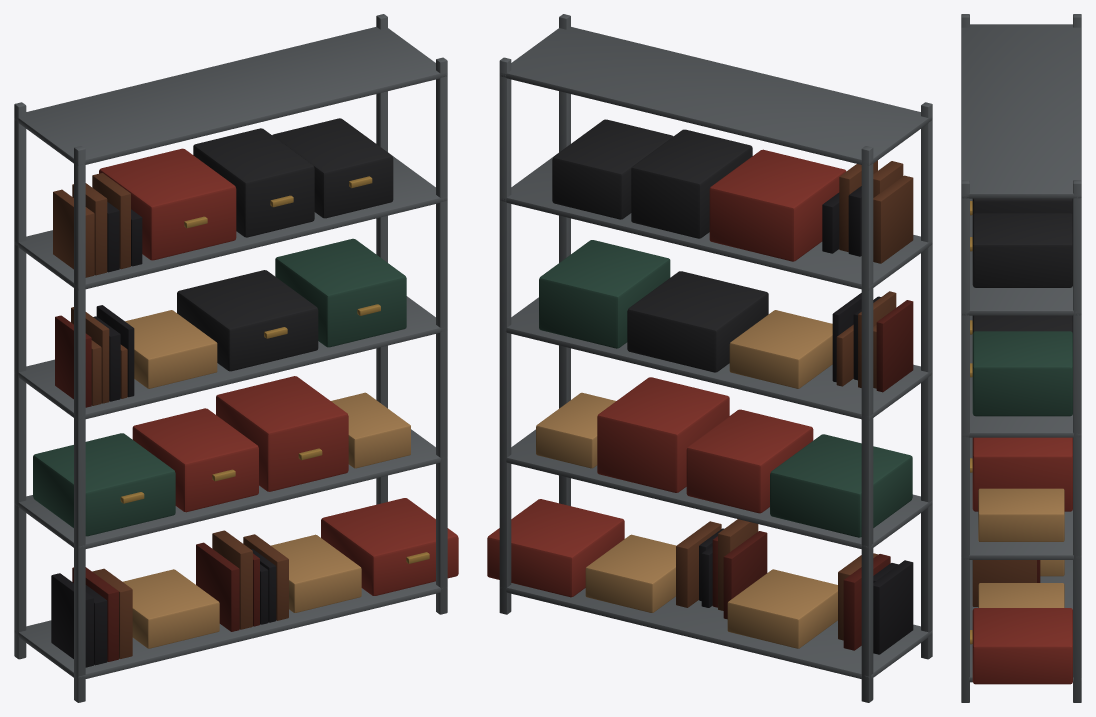
File: mae_strongroom_shelves.glb
3 views of the same model, side by side, from view 1: azimuth 30°, elevation 25°; view 2: azimuth 150°, elevation 25°; view 3: azimuth 270°, elevation 25° (orthographic). The views are drawn at different scales.
Parts seen in each view (by area): view 1: mae_strongroom_shelves; view 2: mae_strongroom_shelves; view 3: mae_strongroom_shelves.
Part boxes in pixels (left/top/right/bottom): mae_strongroom_shelves: left=14, top=14, right=458, bottom=702; mae_strongroom_shelves: left=487, top=14, right=932, bottom=702; mae_strongroom_shelves: left=961, top=14, right=1081, bottom=702.
Bounding box in the file's own units: 1.47 × 2 × 0.42.
